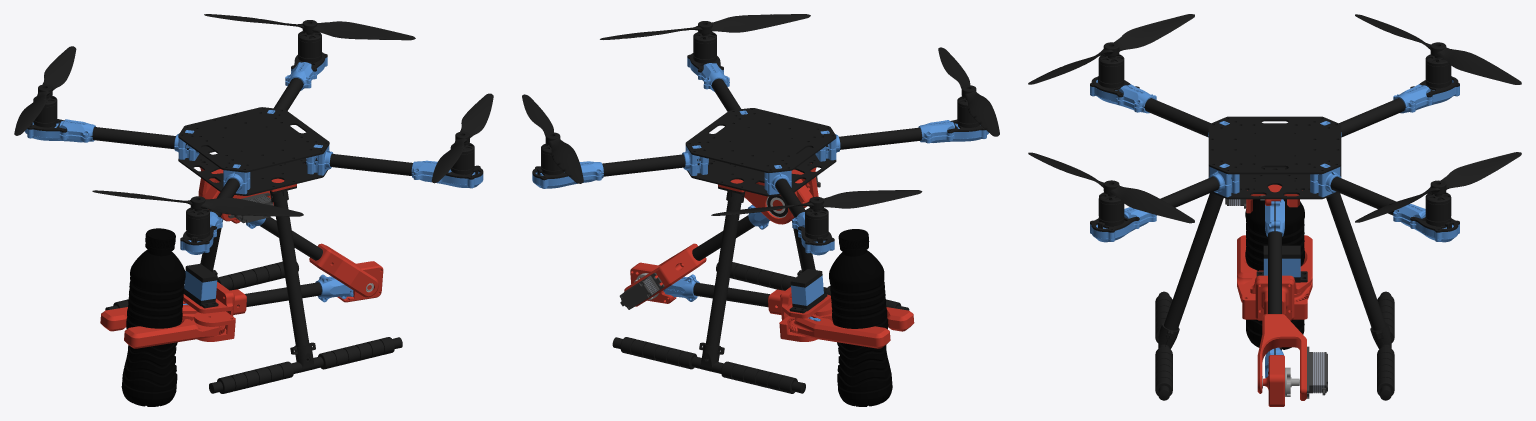
File: drone.glb
3 views of the same model, side by side, from view 1: azimuth 30°, elevation 25°; view 2: azimuth 150°, elevation 25°; view 3: azimuth 270°, elevation 25° (orthographic). The views are drawn at different scales.
Visible parts, largest first — view 1: object 1, anim_arm_29_500_ml_water_bottle_1, object 2, object 3, anim_arm_12_Propeller_10x45_1, anim_arm_15_Propeller_10x45_4, anim_arm_21_idle_arm_1, anim_arm_14_Propeller_10x45_3, anim_arm_13_Propeller_10x45_2, anim_arm_18_elbow_pivot_mount_1, anim_arm_24_claw_servo, anim_arm_0_HMX5V_GUAN_DINGWEI_2 (+8 smaller); view 2: object 1, anim_arm_29_500_ml_water_bottle_1, object 2, object 3, anim_arm_20_servo_arm_1, anim_arm_13_Propeller_10x45_2, anim_arm_14_Propeller_10x45_3, anim_arm_15_Propeller_10x45_4, anim_arm_12_Propeller_10x45_1, anim_arm_18_elbow_pivot_mount_1, anim_arm_24_claw_servo, object 32 (+7 smaller); view 3: object 1, object 2, object 3, anim_arm_29_500_ml_water_bottle_1, anim_arm_18_elbow_pivot_mount_1, anim_arm_13_Propeller_10x45_2, anim_arm_12_Propeller_10x45_1, anim_arm_14_Propeller_10x45_3, anim_arm_15_Propeller_10x45_4, anim_arm_2_HMX5V_GUAN_DINGWEI_3, anim_arm_30_claw_mount_plate_1, anim_arm_24_claw_servo (+7 smaller).
Boxes of the visible parts, x1,y1,x2,y2 form: object 1: (27, 31, 483, 393); anim_arm_29_500_ml_water_bottle_1: (121, 228, 185, 406); object 2: (90, 78, 412, 362); object 3: (24, 57, 483, 254); anim_arm_12_Propeller_10x45_1: (92, 190, 303, 216); anim_arm_15_Propeller_10x45_4: (204, 14, 415, 40); anim_arm_21_idle_arm_1: (124, 319, 225, 348); anim_arm_14_Propeller_10x45_3: (14, 46, 76, 135); anim_arm_13_Propeller_10x45_2: (431, 93, 493, 183); anim_arm_18_elbow_pivot_mount_1: (309, 243, 378, 297); anim_arm_24_claw_servo: (183, 263, 218, 308); anim_arm_0_HMX5V_GUAN_DINGWEI_2: (237, 282, 321, 306); object 1: (532, 32, 985, 393); anim_arm_29_500_ml_water_bottle_1: (829, 229, 892, 406); object 2: (602, 78, 924, 361); object 3: (532, 58, 988, 255); anim_arm_20_servo_arm_1: (789, 314, 890, 348); anim_arm_13_Propeller_10x45_2: (600, 14, 810, 39); anim_arm_14_Propeller_10x45_3: (711, 190, 922, 215); anim_arm_15_Propeller_10x45_4: (522, 94, 583, 183); anim_arm_12_Propeller_10x45_1: (938, 47, 999, 136); anim_arm_18_elbow_pivot_mount_1: (624, 243, 706, 306); anim_arm_24_claw_servo: (789, 269, 827, 313); object 32: (718, 163, 818, 224); object 1: (1090, 54, 1459, 400); object 2: (1124, 98, 1425, 346); object 3: (1090, 80, 1459, 242); anim_arm_29_500_ml_water_bottle_1: (1245, 196, 1304, 349); anim_arm_18_elbow_pivot_mount_1: (1257, 314, 1306, 400); anim_arm_13_Propeller_10x45_2: (1028, 152, 1194, 223); anim_arm_12_Propeller_10x45_1: (1028, 14, 1194, 84); anim_arm_14_Propeller_10x45_3: (1355, 14, 1521, 84); anim_arm_15_Propeller_10x45_4: (1355, 152, 1521, 222); anim_arm_2_HMX5V_GUAN_DINGWEI_3: (1268, 201, 1281, 313); anim_arm_30_claw_mount_plate_1: (1255, 279, 1294, 320); anim_arm_24_claw_servo: (1256, 245, 1307, 282).
Size of the model in its own units: 0.5343 by 0.3371 by 0.5344.
